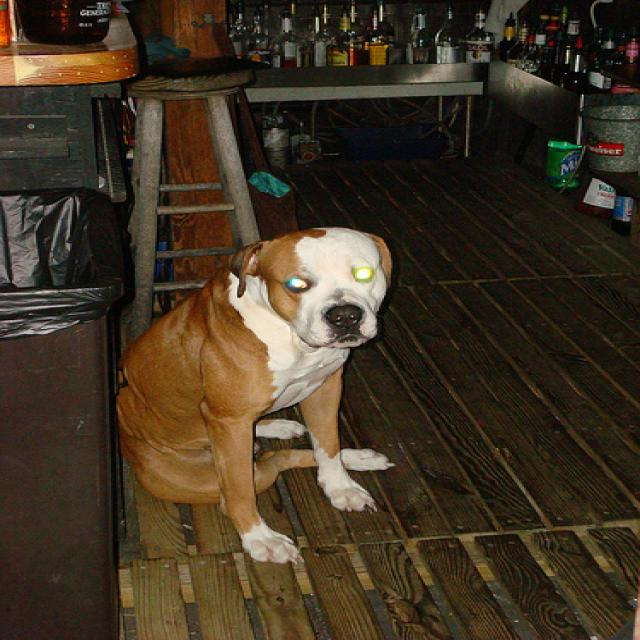dog-american_bulldog: (102, 221, 398, 568)
